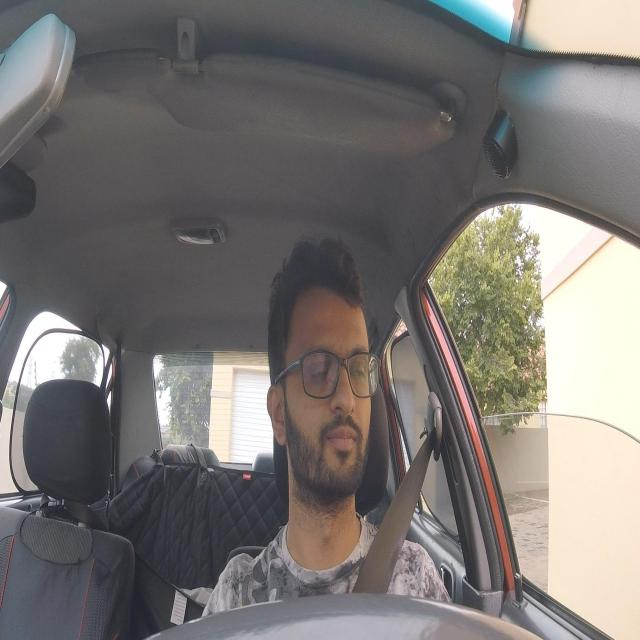close: (347, 344, 372, 386)
